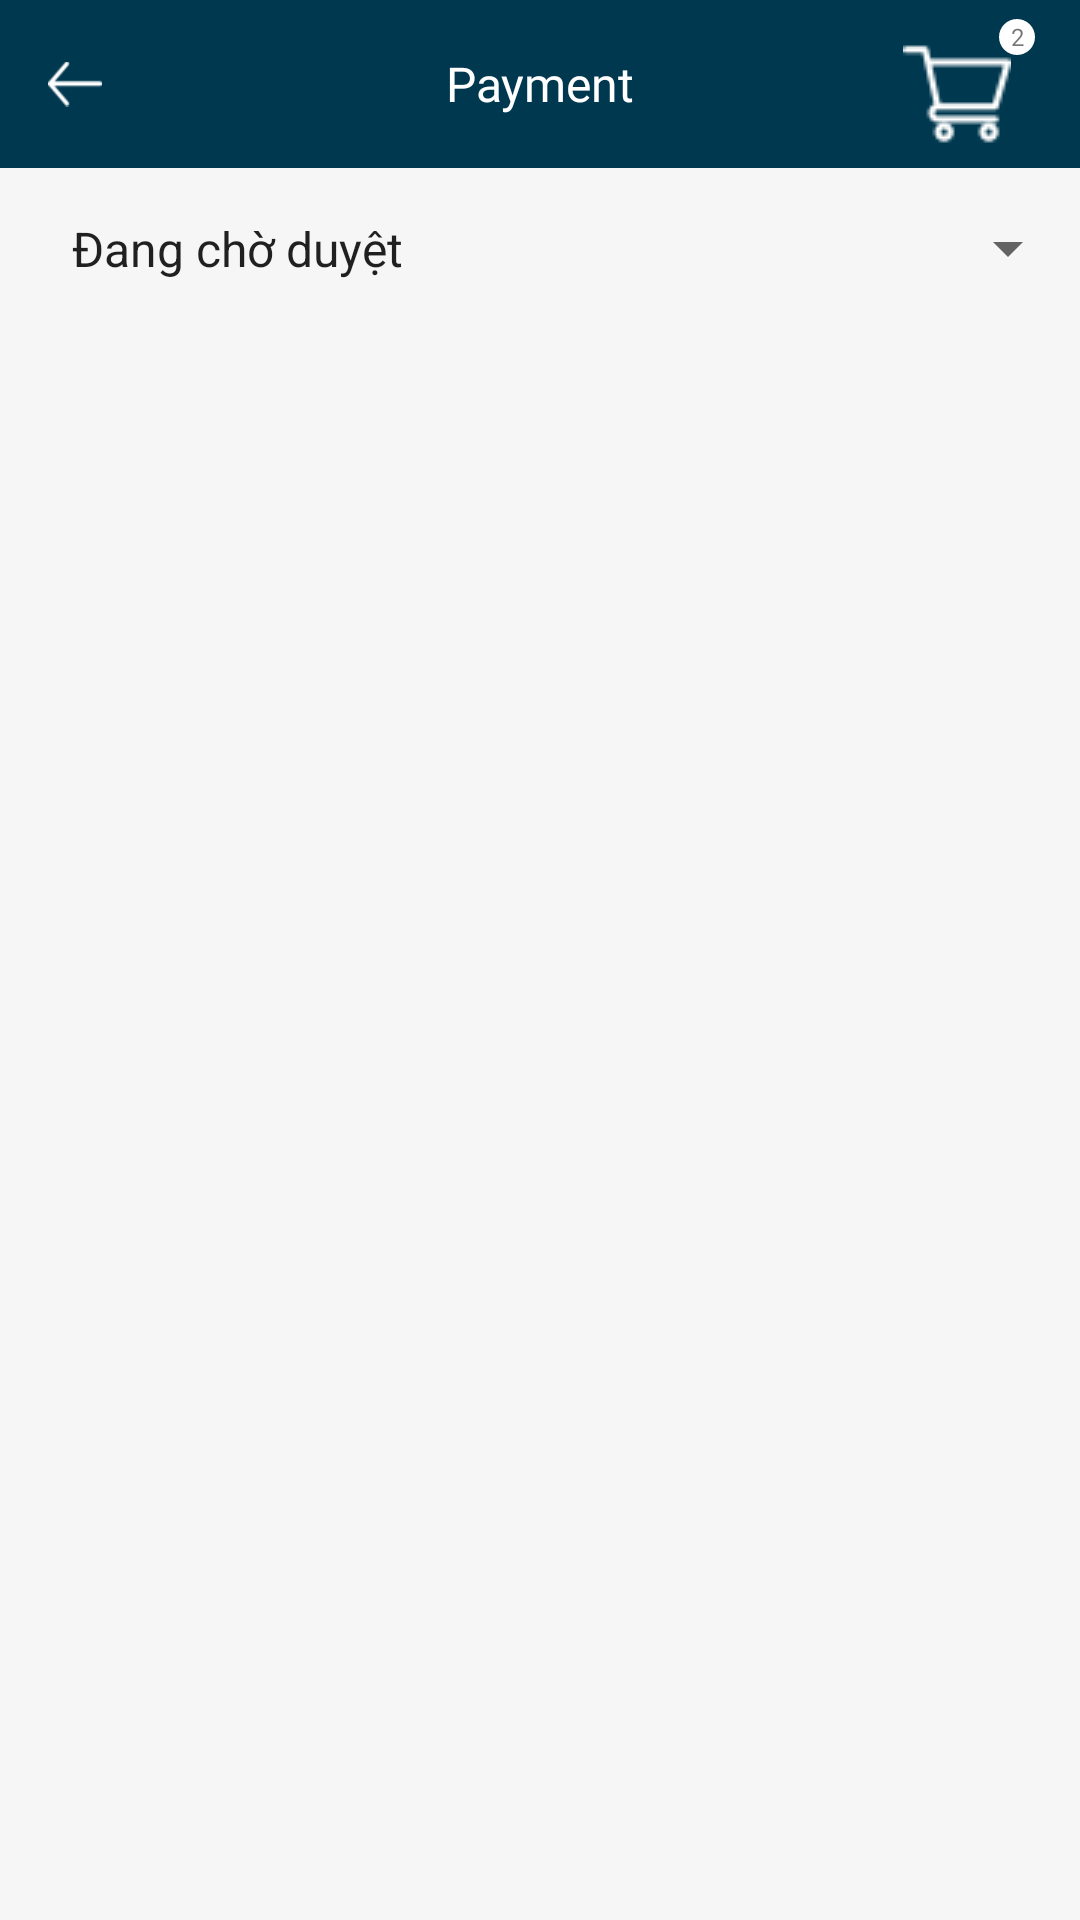

Where to tap for icons on this 1080w x 1920h app screen, as point (x, y):
back: point (75, 84)
supermarket: point (957, 94)
